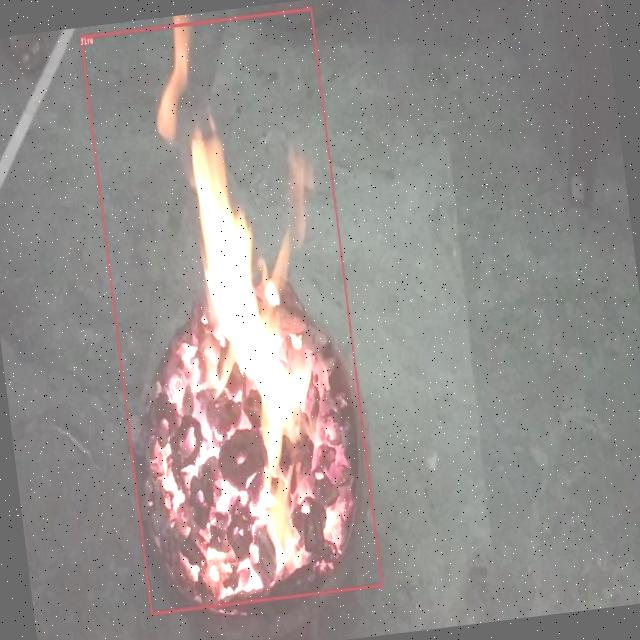fire: (79, 7, 382, 614)
